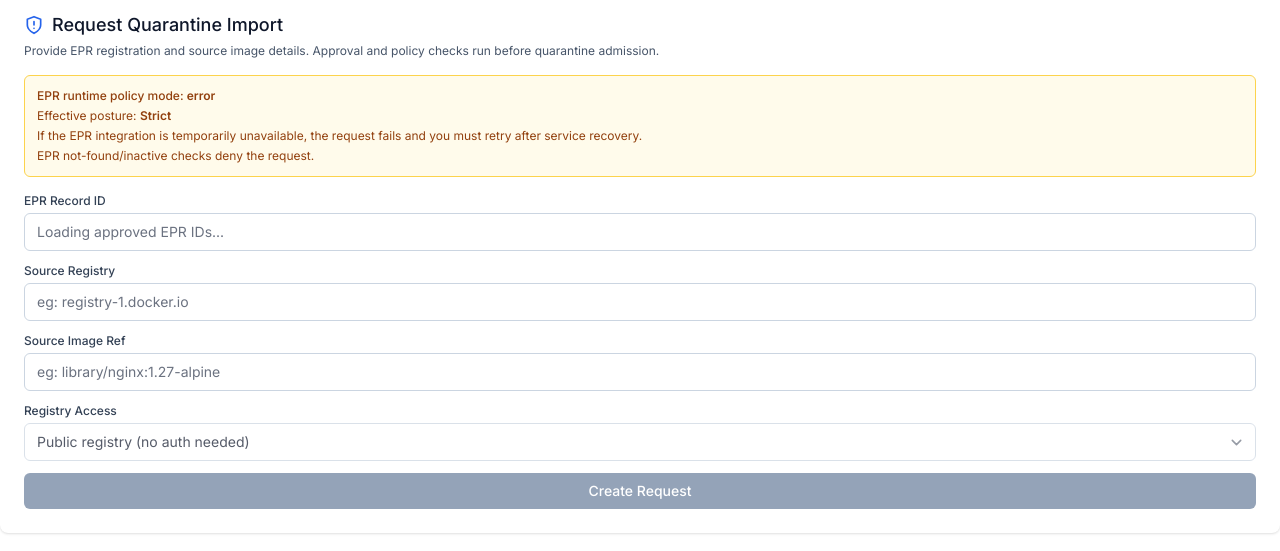
Scenario: ExternalImportRequestForm › keeps submit disabled until a valid approved EPR id is selected and required fields are filled
Expected: the button "Create Request" is disabled, [24,473,1256,509]
Type "EPR-123" into the field labelled "EPR Record ID".
click(640, 232); type("EPR-123")  # box [24,213,1256,251]
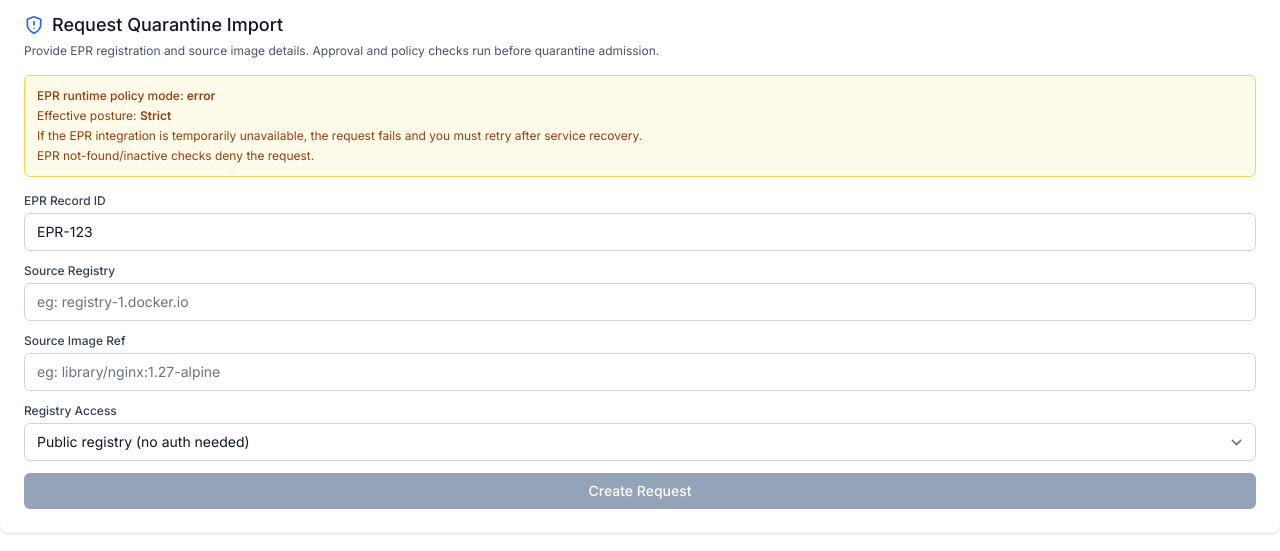
Expected: the field labelled "Source Image Ref" is enabled, [24,353,1256,391]
Expected: the button "Create Request" is disabled, [24,473,1256,509]
Type "registry-1.docker.io" into the field labelled "Source Registry".
click(640, 302); type("registry-1.docker.io")  # box [24,283,1256,321]
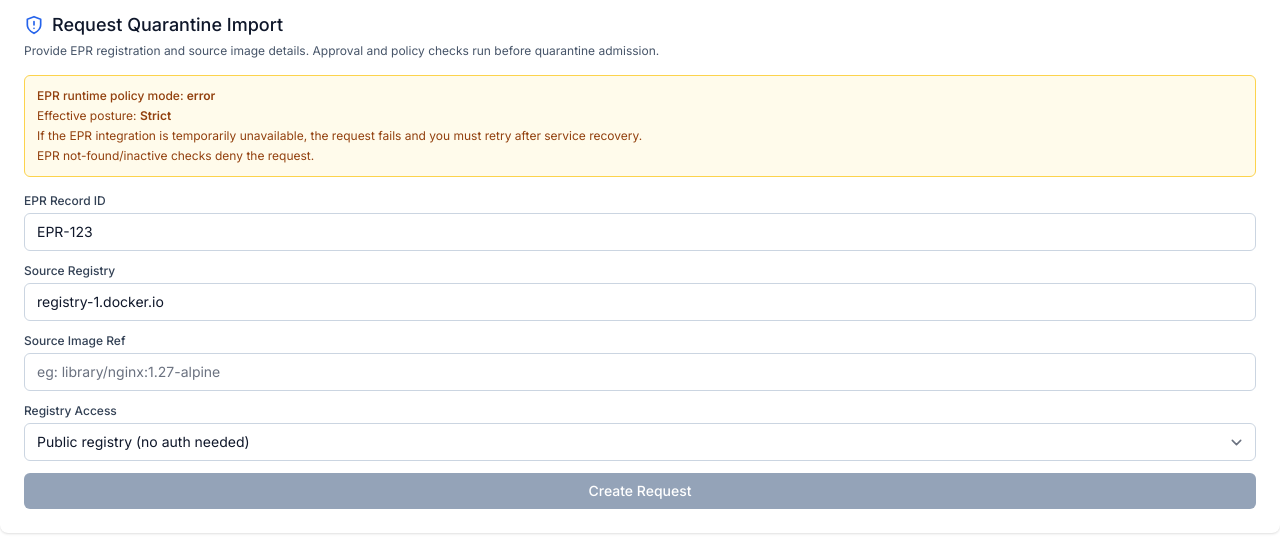
Type "library/nginx:latest" into the field labelled "Source Image Ref".
click(640, 372); type("library/nginx:latest")  # box [24,353,1256,391]
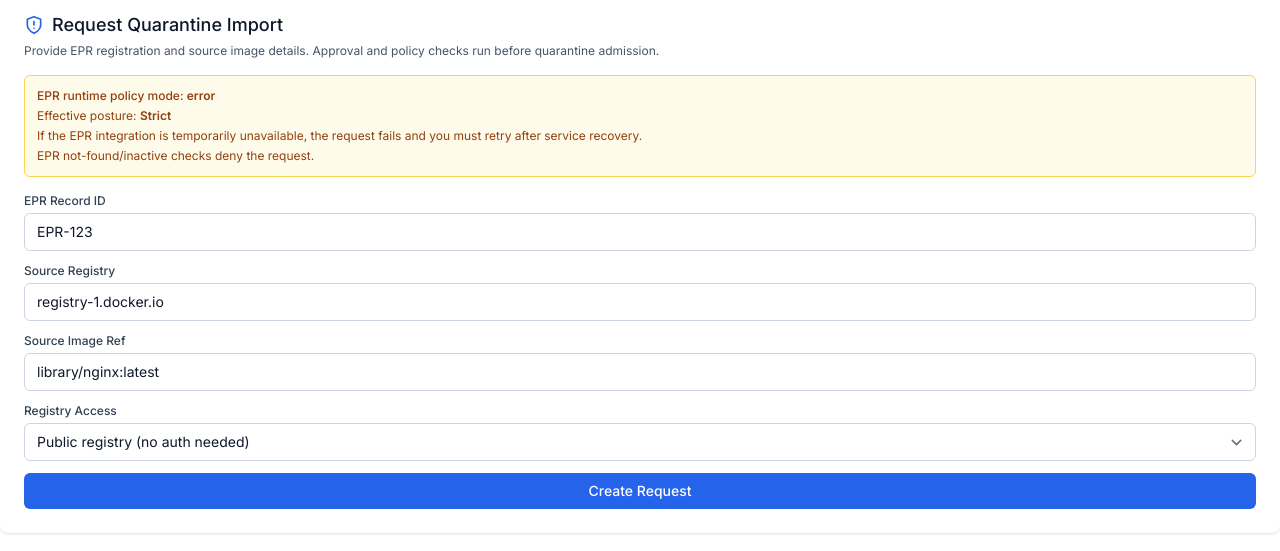
Expected: the button "Create Request" is enabled, [24,473,1256,509]
